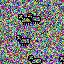sheep: (18, 14, 32, 26), (27, 13, 41, 24), (16, 35, 30, 46), (28, 55, 42, 64), (59, 56, 64, 64)
